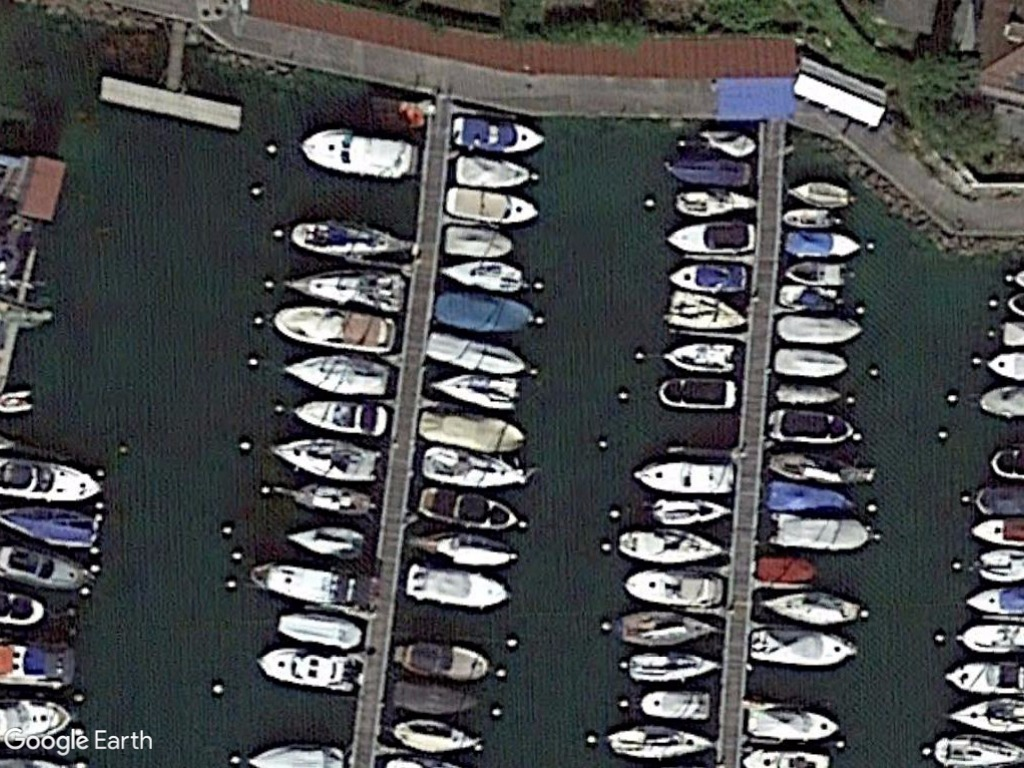boat: (274, 256, 414, 321), (292, 120, 429, 185), (266, 297, 398, 356), (266, 434, 380, 492), (274, 350, 397, 402), (287, 215, 419, 263), (253, 640, 364, 696), (414, 402, 536, 452), (411, 482, 523, 536), (245, 556, 356, 610), (416, 441, 529, 492), (764, 504, 874, 556), (600, 720, 717, 768), (400, 560, 510, 611), (282, 392, 393, 441), (629, 449, 742, 497), (610, 524, 732, 568), (414, 527, 522, 576), (428, 292, 540, 339), (748, 625, 860, 670), (420, 330, 529, 376), (745, 694, 845, 744), (617, 562, 728, 607), (443, 184, 548, 230), (279, 479, 380, 526), (390, 639, 497, 683), (760, 586, 873, 624), (423, 368, 522, 411), (613, 608, 722, 647), (767, 444, 876, 483), (451, 111, 546, 155), (661, 149, 758, 192), (645, 372, 742, 415), (655, 289, 748, 333), (768, 401, 858, 446), (281, 520, 369, 566), (435, 255, 530, 297), (620, 647, 725, 685), (277, 605, 366, 649), (661, 217, 758, 257), (388, 679, 485, 718), (387, 717, 481, 757), (671, 179, 760, 221), (657, 337, 744, 379), (770, 308, 863, 347), (767, 476, 855, 517), (662, 259, 755, 297), (648, 489, 736, 528), (440, 220, 517, 263), (451, 150, 535, 189), (633, 682, 717, 721), (768, 344, 852, 381), (780, 227, 868, 262), (773, 281, 856, 318), (771, 375, 849, 407), (784, 176, 854, 211), (757, 552, 822, 586), (779, 255, 850, 286)
